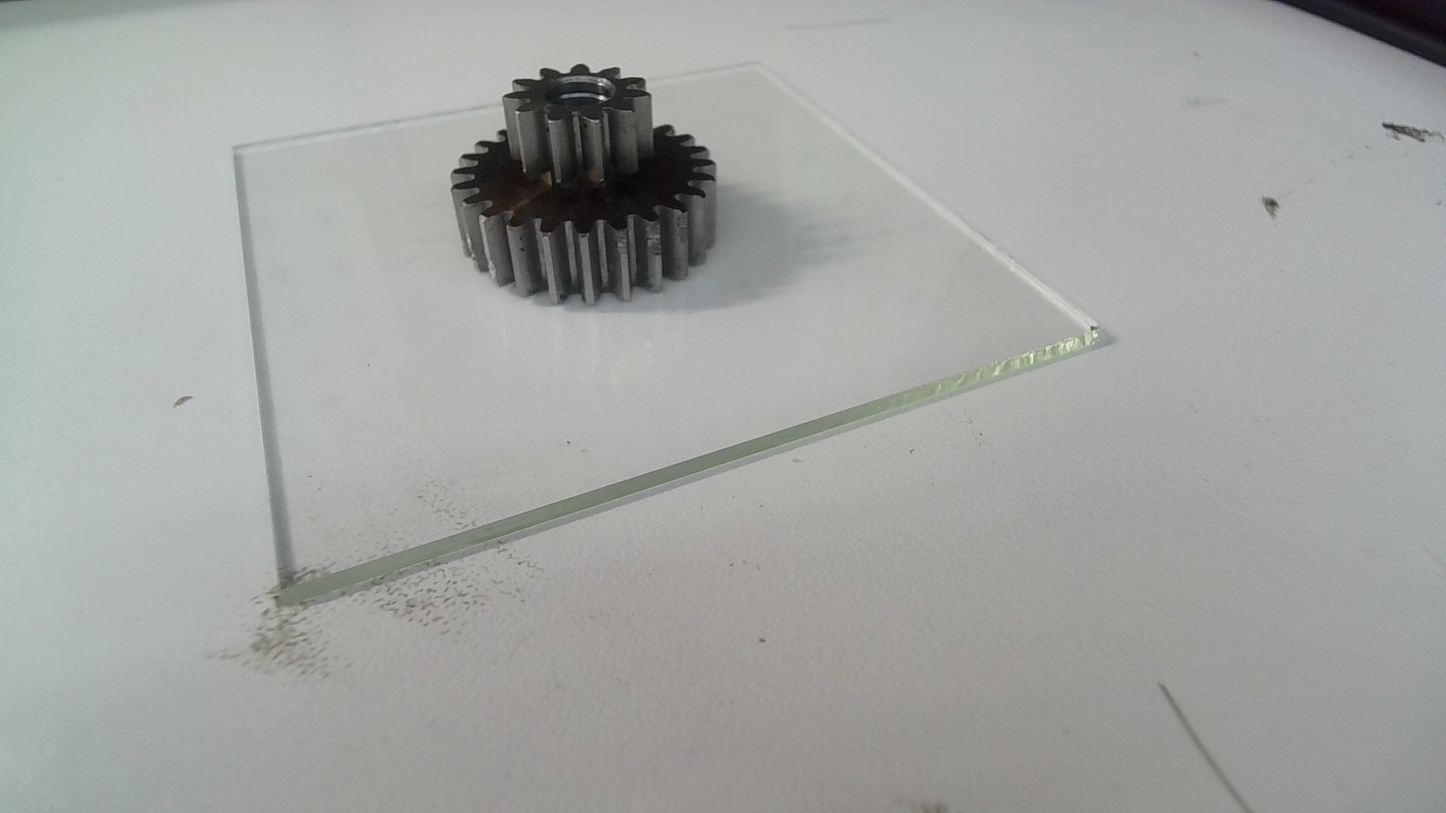gear: (445, 59, 725, 312)
